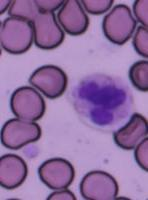N: (69, 72, 134, 132)
